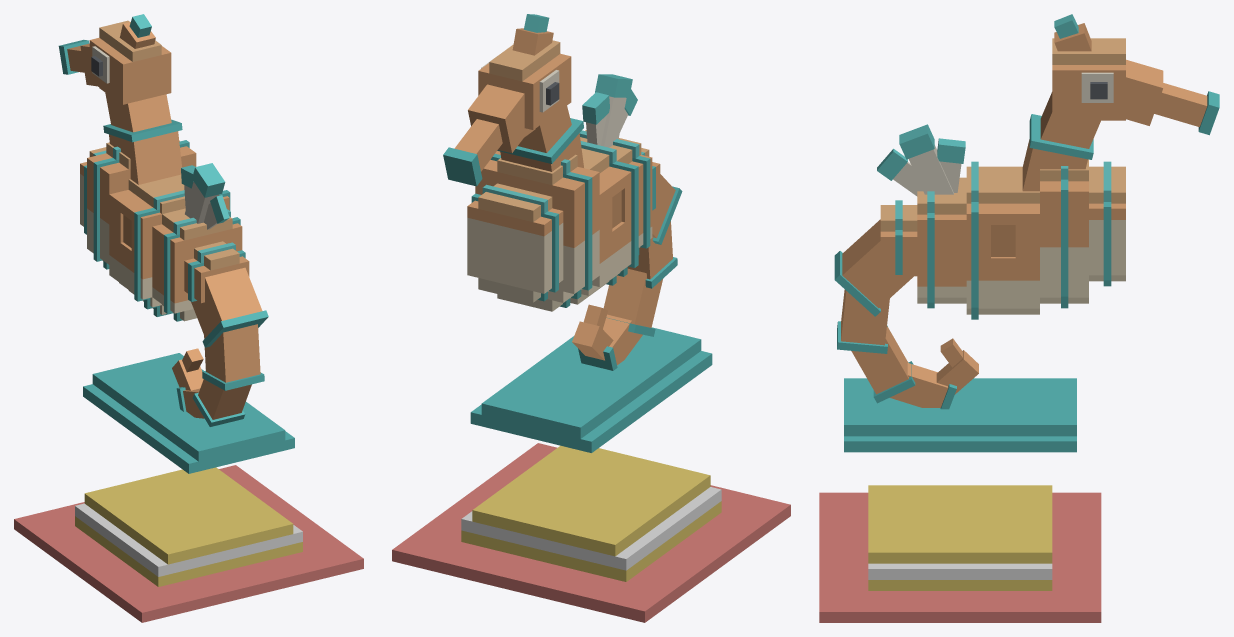
The model's file is SeahorseTrainer2.glb.
3 views of the same model, side by side, from view 1: azimuth 30°, elevation 25°; view 2: azimuth 150°, elevation 25°; view 3: azimuth 270°, elevation 25° (orthographic). The views are drawn at different scales.
Parts seen in each view (by area): view 1: Stand, Body, Plate, Head, T1, T2, Fin, T3, T5, T4; view 2: Stand, Body, Plate, Head, Fin, T3, T4, T2, T1, T5; view 3: Stand, Body, Plate, Head, Fin, T1, T2, T3, T4, T5.
Part boxes in pixels (<box>): Stand: <box>14,465,363,622</box>; Body: <box>80,92,249,321</box>; Plate: <box>83,353,294,473</box>; Head: <box>58,14,171,104</box>; T1: <box>191,267,268,347</box>; T2: <box>202,324,264,390</box>; Fin: <box>181,163,229,229</box>; T3: <box>192,379,251,426</box>; T5: <box>172,359,203,390</box>; T4: <box>176,387,204,418</box>; Stand: <box>392,443,790,622</box>; Body: <box>467,106,660,311</box>; Plate: <box>470,327,712,452</box>; Head: <box>443,14,571,186</box>; Fin: <box>582,74,637,147</box>; T3: <box>603,268,662,336</box>; T4: <box>578,314,642,370</box>; T2: <box>627,221,677,288</box>; T1: <box>652,174,682,244</box>; T5: <box>572,321,613,360</box>; Stand: <box>819,485,1101,622</box>; Body: <box>880,92,1125,319</box>; Plate: <box>844,378,1076,452</box>; Head: <box>1052,14,1219,135</box>; Fin: <box>877,124,965,196</box>; T1: <box>834,219,917,316</box>; T2: <box>837,289,889,353</box>; T3: <box>851,326,915,403</box>; T4: <box>890,363,956,409</box>; T5: <box>936,350,978,394</box>.
Size of the model in its own units: 9.2 by 19.67 by 13.06.
